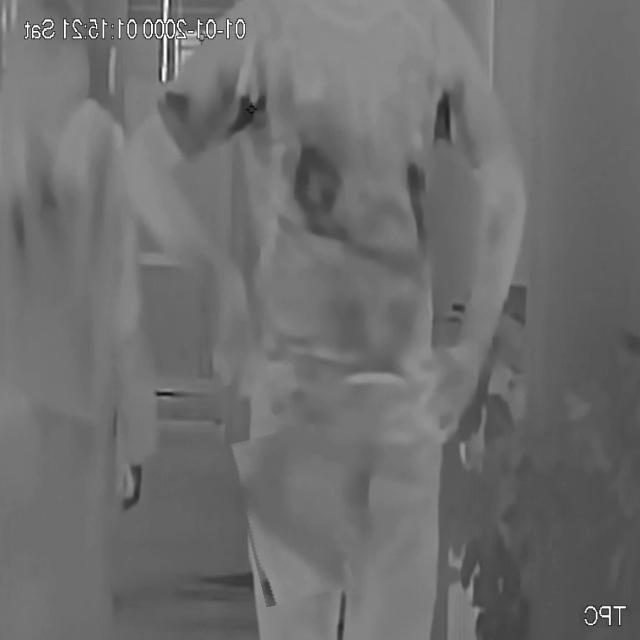Weapon: (236, 428, 346, 603)
